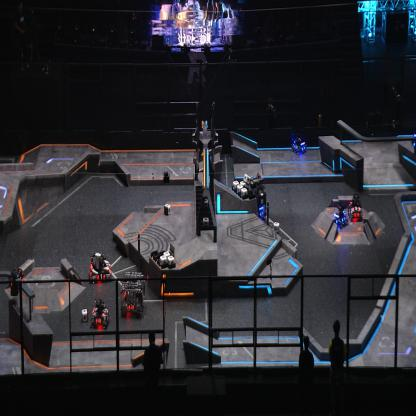car: (121, 270, 146, 318), (245, 182, 266, 222), (89, 251, 112, 283), (90, 298, 110, 330), (347, 191, 363, 221), (332, 202, 348, 228), (291, 131, 307, 154)
